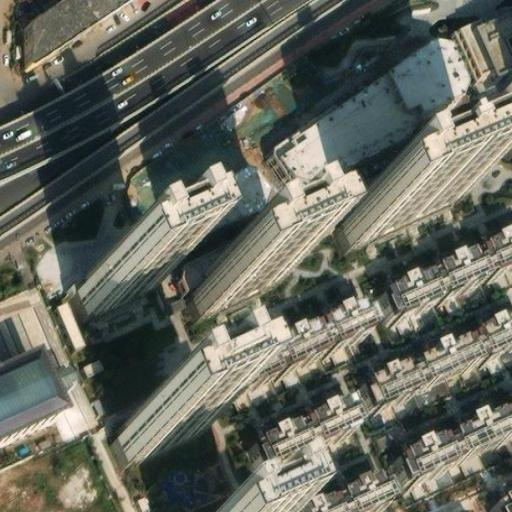building: (274, 64, 427, 184), (355, 310, 512, 412), (376, 237, 512, 324), (347, 150, 471, 237), (394, 412, 512, 493), (192, 236, 290, 305), (267, 384, 363, 451), (393, 31, 475, 106), (73, 249, 152, 313), (121, 405, 209, 460), (0, 362, 57, 445), (453, 3, 512, 83), (237, 335, 319, 391), (301, 479, 388, 512), (308, 316, 364, 361), (57, 290, 93, 342), (486, 493, 512, 512), (83, 353, 101, 370)
